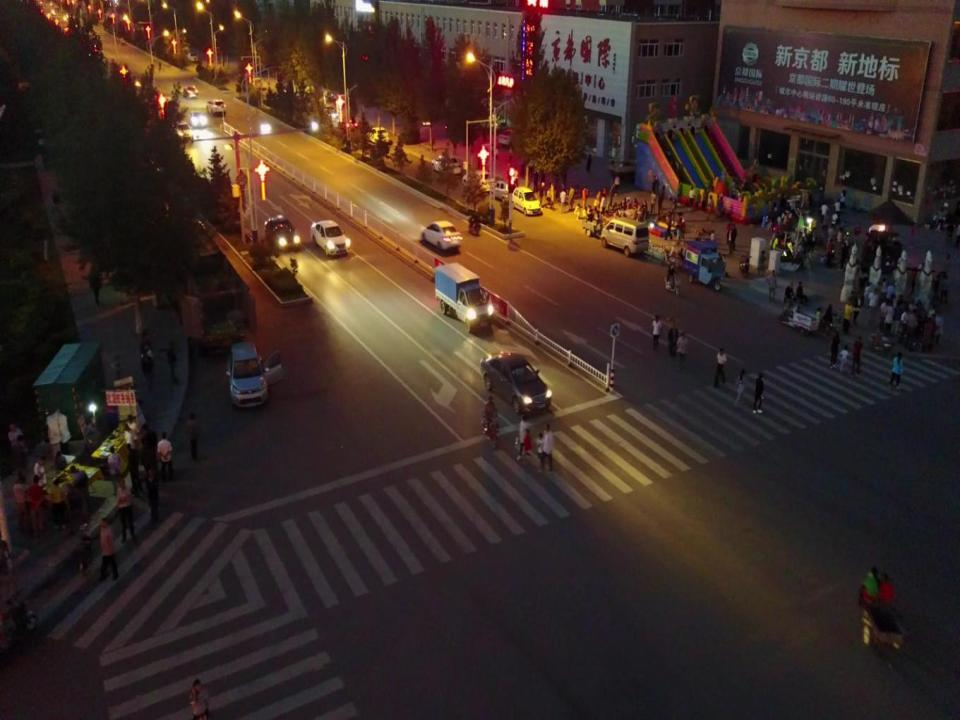car: (470, 350, 553, 410), (224, 342, 284, 410), (310, 214, 354, 258), (418, 214, 462, 250), (264, 216, 303, 252), (460, 167, 494, 195), (512, 188, 542, 218), (313, 88, 339, 120), (499, 120, 530, 144), (430, 154, 462, 177), (492, 177, 515, 206), (367, 121, 388, 148), (187, 106, 208, 131), (206, 99, 235, 114), (182, 82, 200, 98)
truck: (427, 260, 492, 328)
van: (596, 214, 649, 254)
